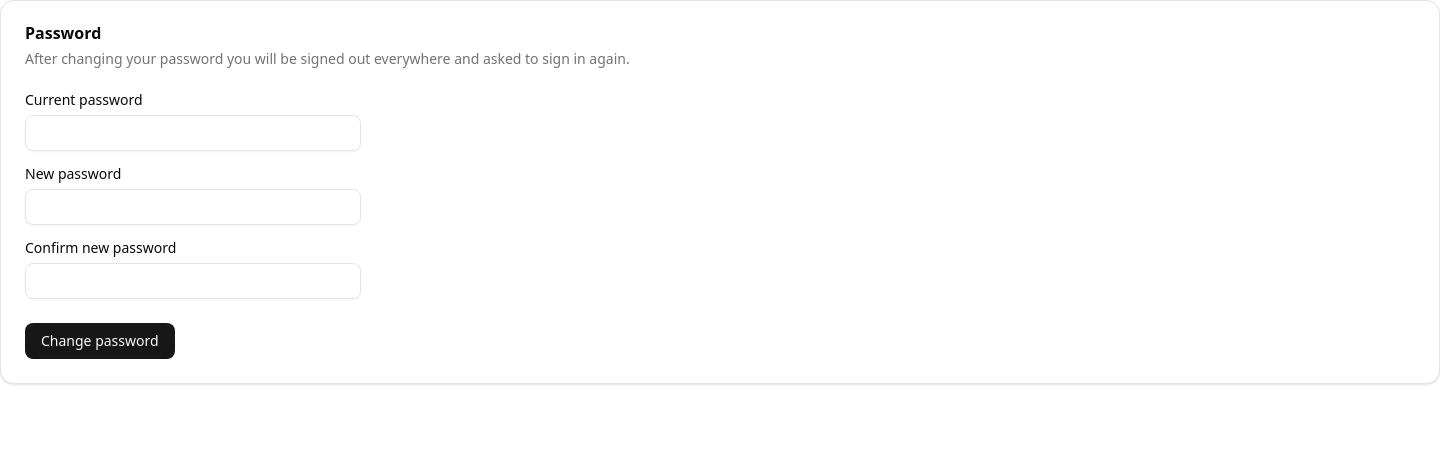
Test case: PasswordForm › rejects reusing the current password
Type "same-secret-1" into the password field labelled "Current password" at coordinates (193, 133), box [25,115,361,151]
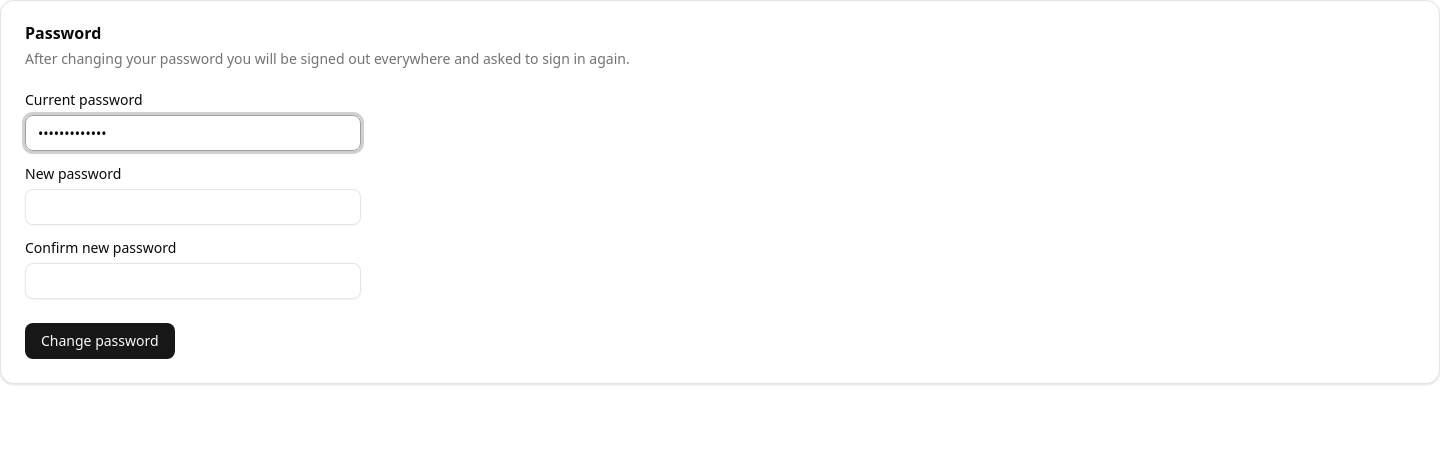
Type "same-secret-1" into the password field labelled "New password" at coordinates (193, 207), box [25,189,361,225]
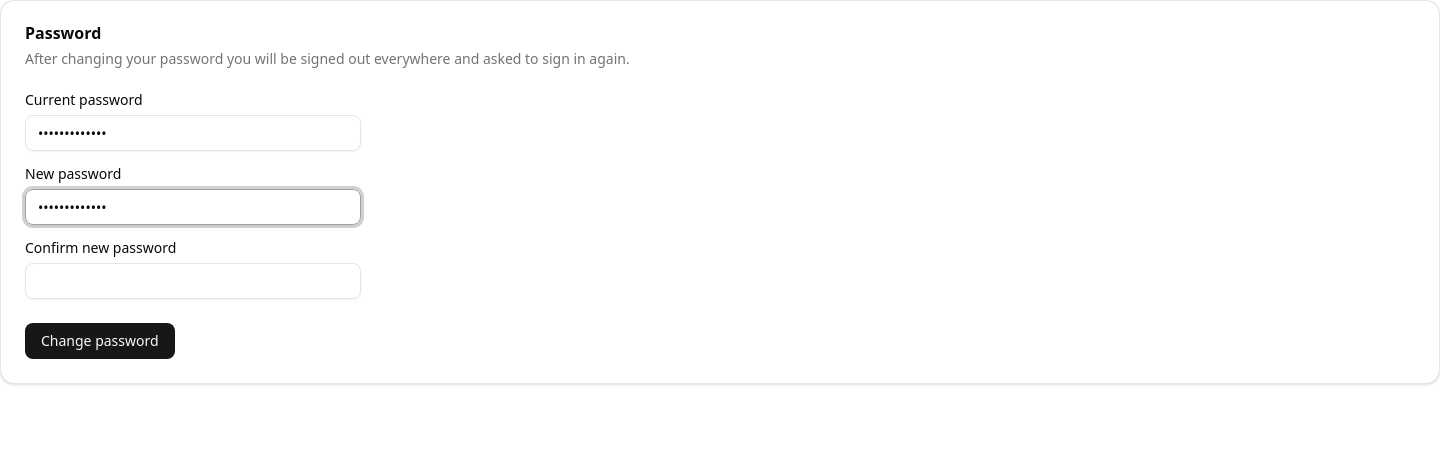
Type "same-secret-1" into the password field labelled "Confirm new password" at coordinates (193, 281), box [25,263,361,299]
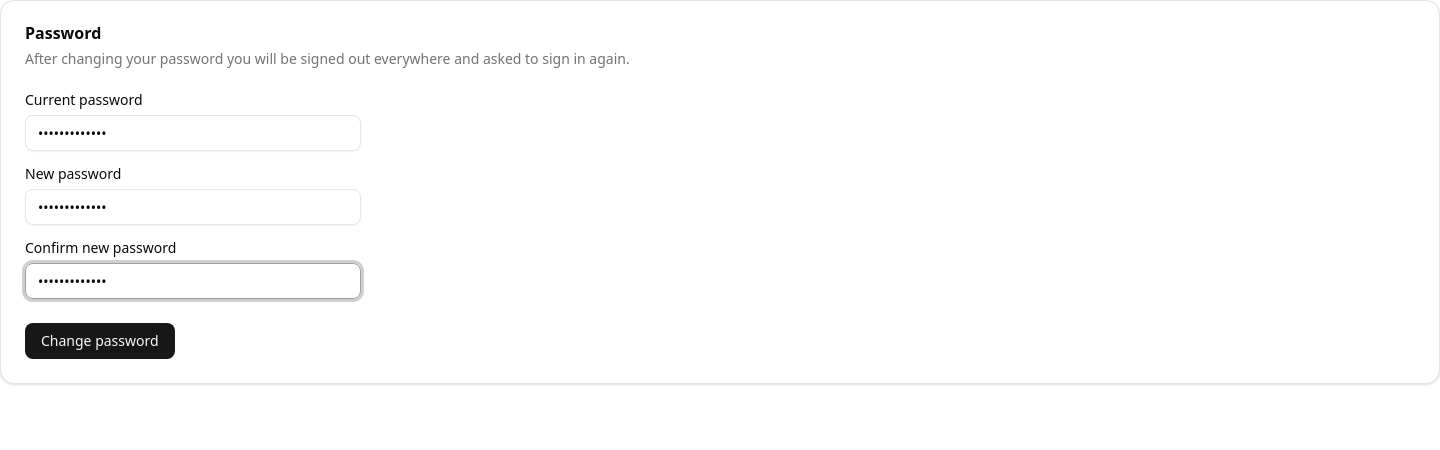
Click the button "Change password" at coordinates (100, 341), box [25,323,175,359]
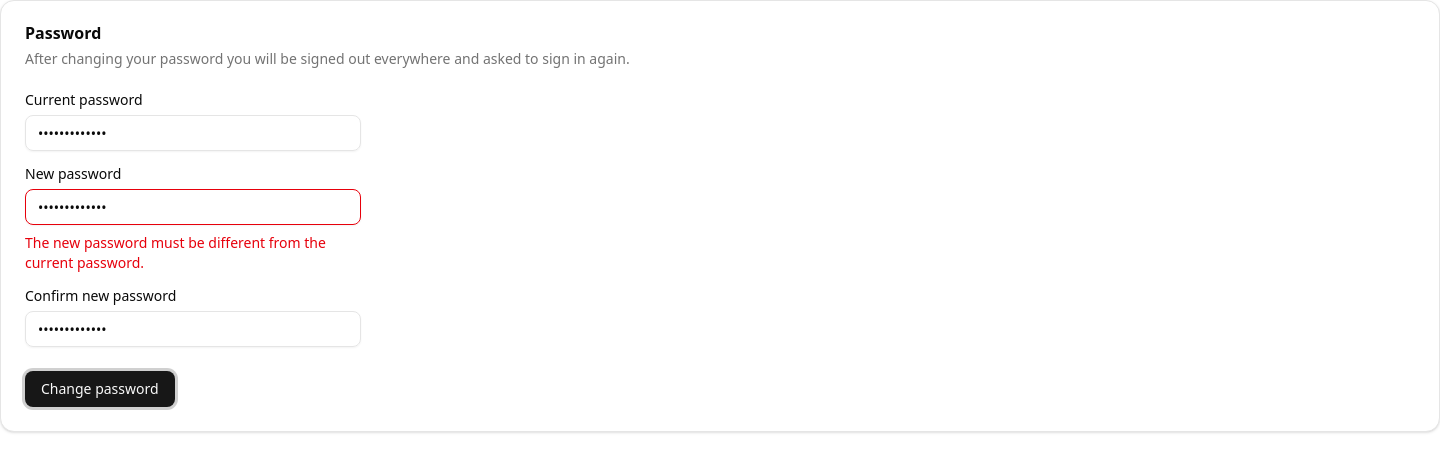
Expected: the text "The new password must be different from the current password." is shown, [25,233,361,273]
